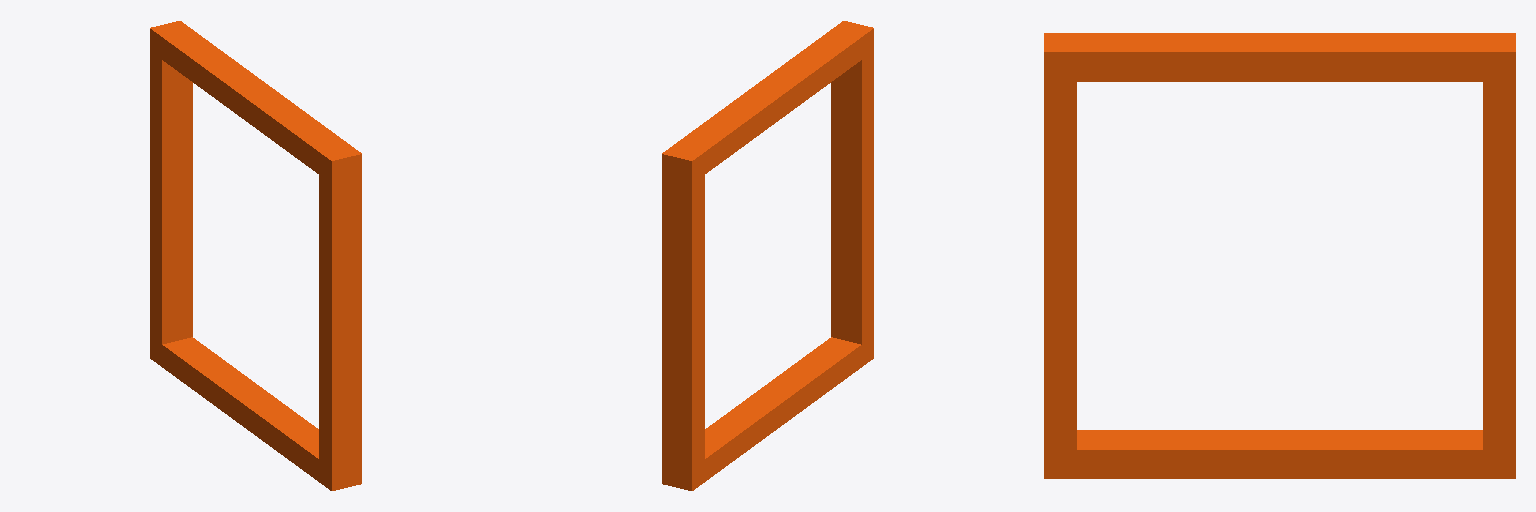
The robot description file, URDF, robot "race_gate_4m":
<?xml version="1.0" encoding="UTF-8"?>
<robot name="race_gate_4m">
  <link name="base_link">
    <inertial>
      <origin xyz="0 0 0" rpy="0 0 0"/>
      <mass value="1.0"/>
      <inertia ixx="0.01" ixy="0.0" ixz="0.0" iyy="0.01" iyz="0.0" izz="0.01"/>
    </inertial>
  </link>

  <link name="top_bar">
    <inertial>
      <origin xyz="0 0 0" rpy="0 0 0"/>
      <mass value="0.25"/>
      <inertia ixx="0.01" ixy="0.0" ixz="0.0" iyy="0.01" iyz="0.0" izz="0.01"/>
    </inertial>
    <visual name="top_bar_visual">
      <geometry>
        <box size="0.45 4.64 0.32"/>
      </geometry>
      <origin xyz="0 0 0" rpy="0 0 0"/>
      <material name="GateOrange">
        <color rgba="1.0 0.45 0.1 1.0"/>
      </material>
    </visual>
    <collision name="top_bar_collision">
      <geometry>
        <box size="0.45 4.64 0.32"/>
      </geometry>
      <origin xyz="0 0 0" rpy="0 0 0"/>
    </collision>
  </link>

  <link name="bottom_bar">
    <inertial>
      <origin xyz="0 0 0" rpy="0 0 0"/>
      <mass value="0.25"/>
      <inertia ixx="0.01" ixy="0.0" ixz="0.0" iyy="0.01" iyz="0.0" izz="0.01"/>
    </inertial>
    <visual name="bottom_bar_visual">
      <geometry>
        <box size="0.45 4.64 0.32"/>
      </geometry>
      <origin xyz="0 0 0" rpy="0 0 0"/>
      <material name="GateOrange">
        <color rgba="1.0 0.45 0.1 1.0"/>
      </material>
    </visual>
    <collision name="bottom_bar_collision">
      <geometry>
        <box size="0.45 4.64 0.32"/>
      </geometry>
      <origin xyz="0 0 0" rpy="0 0 0"/>
    </collision>
  </link>

  <link name="left_bar">
    <inertial>
      <origin xyz="0 0 0" rpy="0 0 0"/>
      <mass value="0.25"/>
      <inertia ixx="0.01" ixy="0.0" ixz="0.0" iyy="0.01" iyz="0.0" izz="0.01"/>
    </inertial>
    <visual name="left_bar_visual">
      <geometry>
        <box size="0.45 0.32 4.64"/>
      </geometry>
      <origin xyz="0 0 0" rpy="0 0 0"/>
      <material name="GateOrange">
        <color rgba="1.0 0.45 0.1 1.0"/>
      </material>
    </visual>
    <collision name="left_bar_collision">
      <geometry>
        <box size="0.45 0.32 4.64"/>
      </geometry>
      <origin xyz="0 0 0" rpy="0 0 0"/>
    </collision>
  </link>

  <link name="right_bar">
    <inertial>
      <origin xyz="0 0 0" rpy="0 0 0"/>
      <mass value="0.25"/>
      <inertia ixx="0.01" ixy="0.0" ixz="0.0" iyy="0.01" iyz="0.0" izz="0.01"/>
    </inertial>
    <visual name="right_bar_visual">
      <geometry>
        <box size="0.45 0.32 4.64"/>
      </geometry>
      <origin xyz="0 0 0" rpy="0 0 0"/>
      <material name="GateOrange">
        <color rgba="1.0 0.45 0.1 1.0"/>
      </material>
    </visual>
    <collision name="right_bar_collision">
      <geometry>
        <box size="0.45 0.32 4.64"/>
      </geometry>
      <origin xyz="0 0 0" rpy="0 0 0"/>
    </collision>
  </link>

  <joint name="base_to_top_bar" type="fixed" dont_collapse="true">
    <parent link="base_link"/>
    <child link="top_bar"/>
    <origin xyz="0 0 2.16" rpy="0 0 0"/>
  </joint>

  <joint name="base_to_bottom_bar" type="fixed" dont_collapse="true">
    <parent link="base_link"/>
    <child link="bottom_bar"/>
    <origin xyz="0 0 -2.16" rpy="0 0 0"/>
  </joint>

  <joint name="base_to_left_bar" type="fixed" dont_collapse="true">
    <parent link="base_link"/>
    <child link="left_bar"/>
    <origin xyz="0 2.16 0" rpy="0 0 0"/>
  </joint>

  <joint name="base_to_right_bar" type="fixed" dont_collapse="true">
    <parent link="base_link"/>
    <child link="right_bar"/>
    <origin xyz="0 -2.16 0" rpy="0 0 0"/>
  </joint>
</robot>

--- What the picture shows (computed from the rendered views, not written in the file) ---
3 views of the same robot in one strip: view 1: azimuth 30°, elevation 25°; view 2: azimuth 150°, elevation 25°; view 3: azimuth 270°, elevation 25° (orthographic).
Robot: race_gate_4m — 5 links, 4 joints (4 fixed); root link base_link; default pose: every joint at zero.
Visible links, largest first — view 1: right_bar, left_bar, top_bar, bottom_bar; view 2: left_bar, right_bar, top_bar, bottom_bar; view 3: top_bar, bottom_bar, right_bar, left_bar.
Link boxes in pixels (box(x1,y1,x2,y2)): right_bar: box(319, 145, 361, 490); left_bar: box(150, 21, 192, 366); top_bar: box(150, 21, 361, 183); bottom_bar: box(150, 336, 361, 490); left_bar: box(662, 145, 704, 490); right_bar: box(831, 21, 873, 365); top_bar: box(662, 21, 873, 183); bottom_bar: box(662, 336, 873, 490); top_bar: box(1044, 33, 1515, 81); bottom_bar: box(1044, 430, 1515, 478); right_bar: box(1044, 33, 1076, 478); left_bar: box(1483, 33, 1515, 478).
Bounding box of the posed robot: 0.45 × 4.64 × 4.64 m (x, y, z).
Geometry: primitives only (box / cylinder / sphere), no mesh files.
